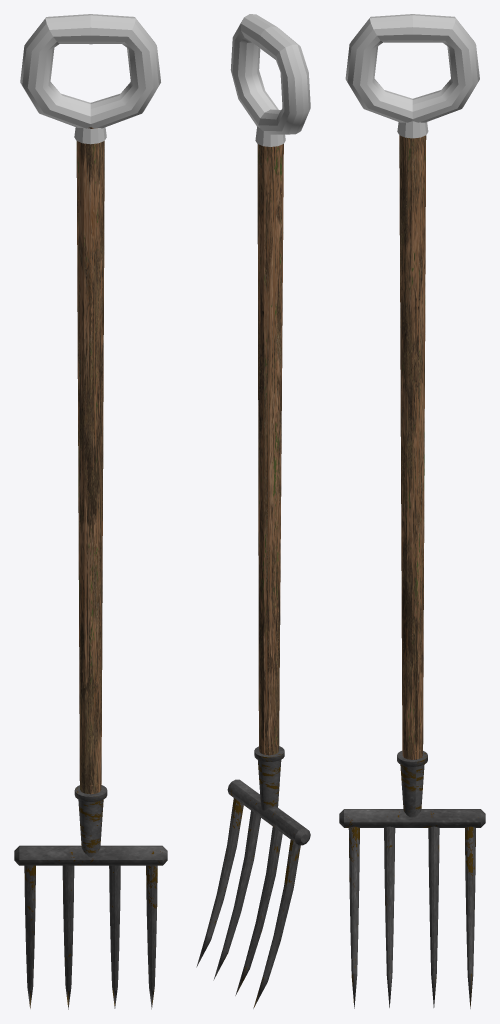
Rendered from m_pitchfork.fbx.
3 views of the same model, side by side, from view 1: azimuth 90°, elevation 25°; view 2: azimuth 210°, elevation 25°; view 3: azimuth 270°, elevation 25° (orthographic). The views are drawn at different scales.
Visible parts, largest first — view 1: pitchfork; view 2: pitchfork; view 3: pitchfork.
Boxes of the visible parts, <box> form: pitchfork: <box>14,14,167,1009</box>; pitchfork: <box>196,14,310,1008</box>; pitchfork: <box>339,14,485,1008</box>.
Size of the model in its own units: 21.09 by 325 by 44.3.
